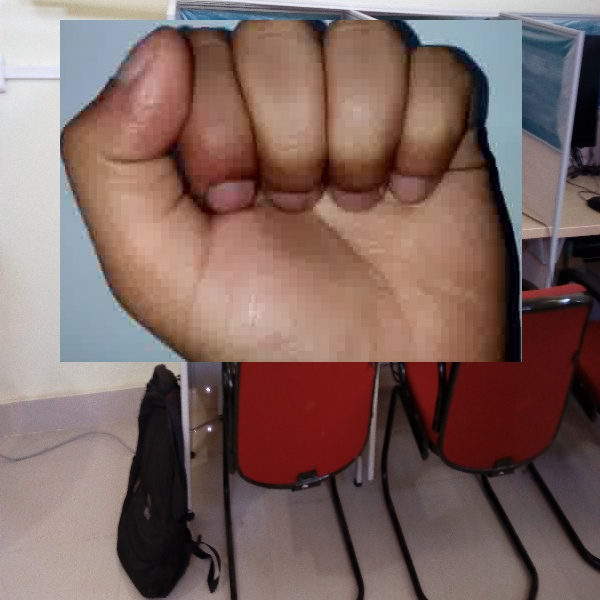A: (60, 20, 522, 362)
